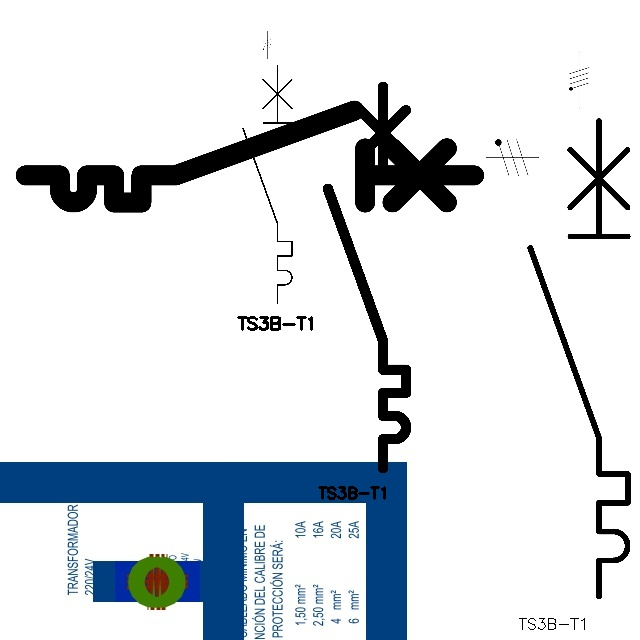interruptor_termomagnetico: (518, 108, 640, 608), (14, 99, 486, 214), (318, 77, 416, 478), (237, 59, 298, 308)
